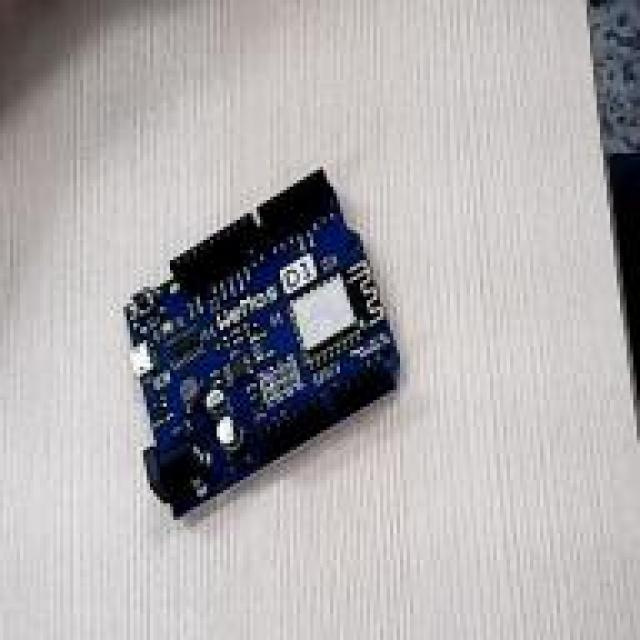Wemos: (124, 171, 398, 514)
